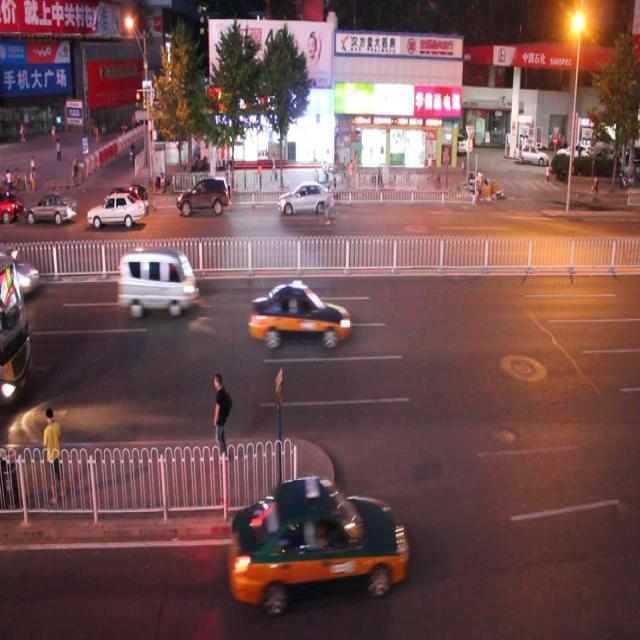car: (228, 472, 406, 611), (248, 280, 350, 349), (116, 246, 198, 316), (88, 190, 146, 228), (278, 178, 332, 218), (176, 175, 230, 214), (25, 187, 77, 224), (101, 180, 145, 223)
